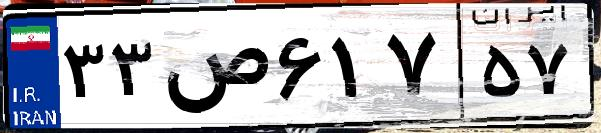1: (330, 28, 385, 110)
3: (57, 26, 110, 100), (110, 28, 158, 98)
5: (475, 38, 525, 113)
6: (270, 28, 330, 110)
7: (385, 28, 445, 110), (525, 38, 570, 115)
ص: (158, 20, 270, 120)
